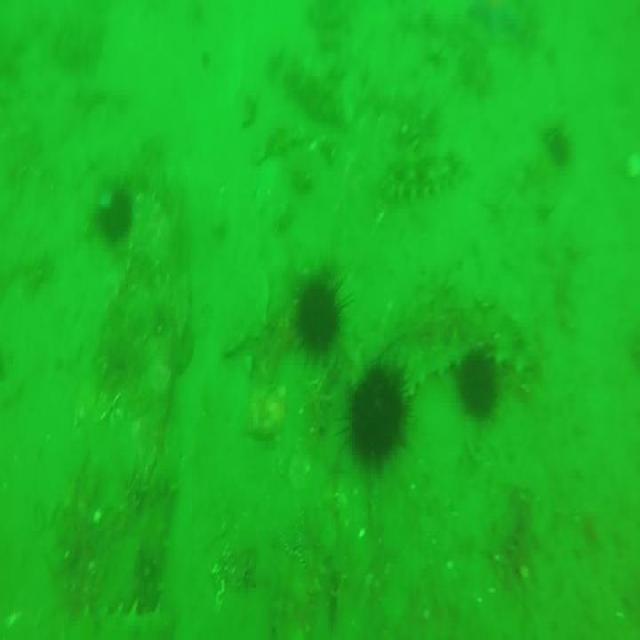echinus: (343, 364, 403, 466), (297, 284, 343, 356), (457, 349, 501, 417), (95, 176, 132, 240), (545, 128, 572, 166)
holothurian: (2, 599, 170, 640), (276, 49, 348, 137), (380, 144, 460, 199)
